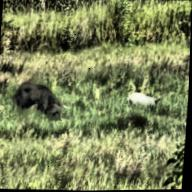boar: (12, 80, 69, 121)
